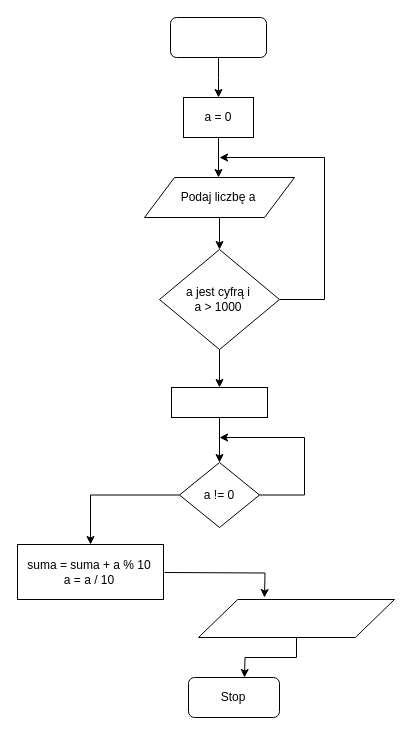
This 412x735 diagram has some shape labels left out. The centre of each missing label's shape, as x and y in pixels:
Pisz "Suma cyfr: suma": pixel 296 618
Start: pixel 218 37
suma = 0: pixel 219 402
